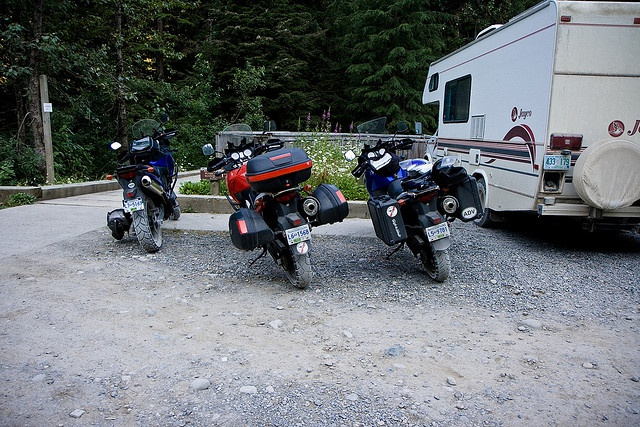non-vehicle: (201, 117, 349, 288), (344, 115, 484, 280), (111, 118, 181, 253)
